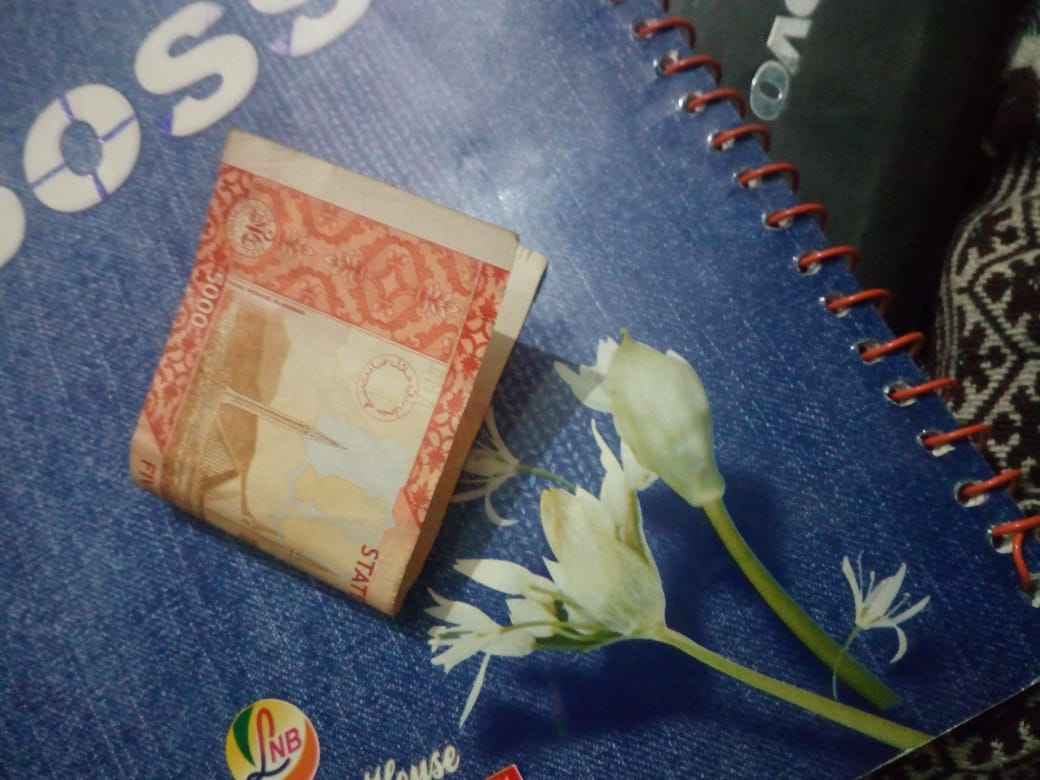5000 rupee: (110, 133, 542, 642)
